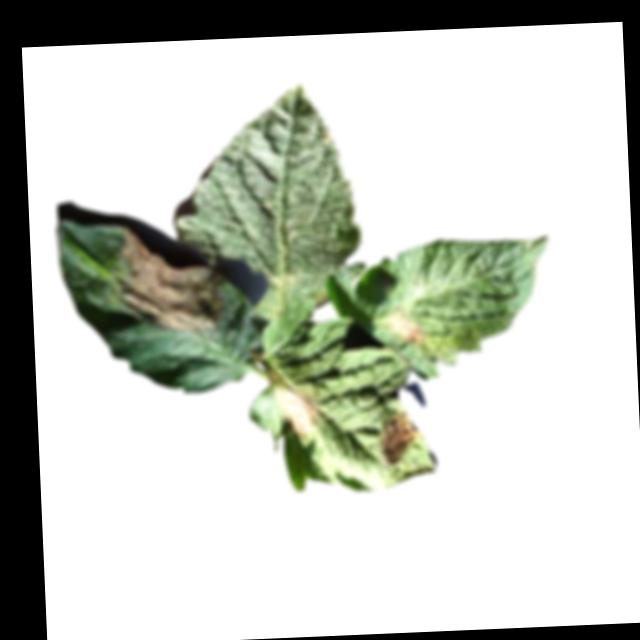Late_blight: (114, 222, 224, 339), (274, 382, 321, 439), (377, 410, 423, 464), (385, 304, 427, 350)
healthy: (168, 80, 367, 322)
